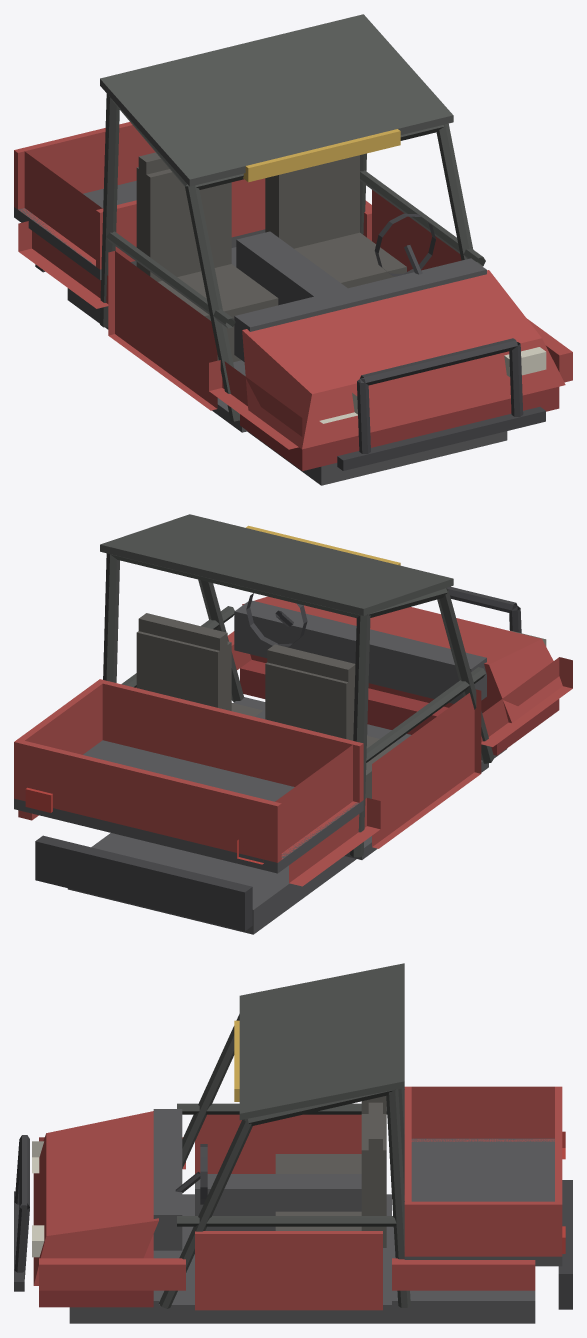
Rendered from sxs_body.glb.
The picture shows the model from 3 angles, top to bottom: view 1: azimuth 30°, elevation 25°; view 2: azimuth 150°, elevation 25°; view 3: azimuth 270°, elevation 25°; orthographic projection. The views are drawn at different scales.
Visible parts, largest first — view 1: sxs_body; view 2: sxs_body; view 3: sxs_body.
Part boxes in pixels (x1=…): sxs_body: x1=14, y1=14, x2=572, y2=485; sxs_body: x1=14, y1=514, x2=572, y2=934; sxs_body: x1=14, y1=963, x2=572, y2=1323.
Size of the model in its own units: 1.68 by 1.6 by 3.12.
